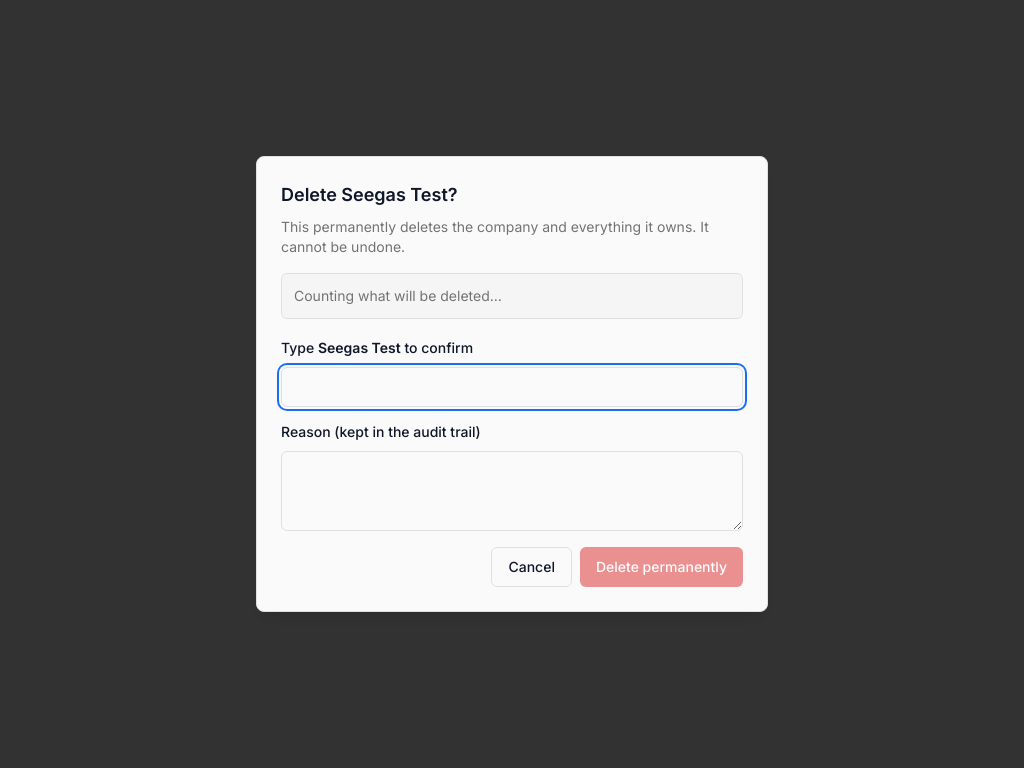
Test: the delete dialog › stays open and shows the error when the server refuses
This screenshot has width=1024, height=768.
Step 1. Type "Seegas Test" into the field labelled "Type Seegas Test to confirm" → (512, 387), box [281, 367, 743, 407]
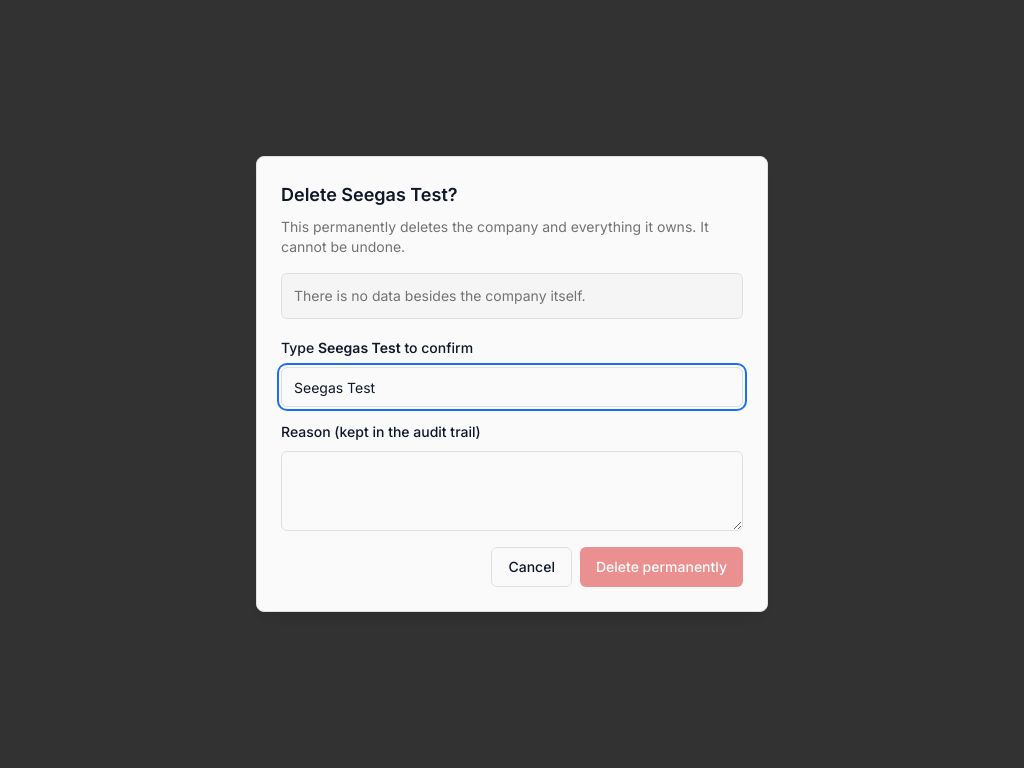
Step 2. Type "Test company, not needed" into the text box labelled "Reason (kept in the audit trail)" → (512, 491), box [281, 451, 743, 531]
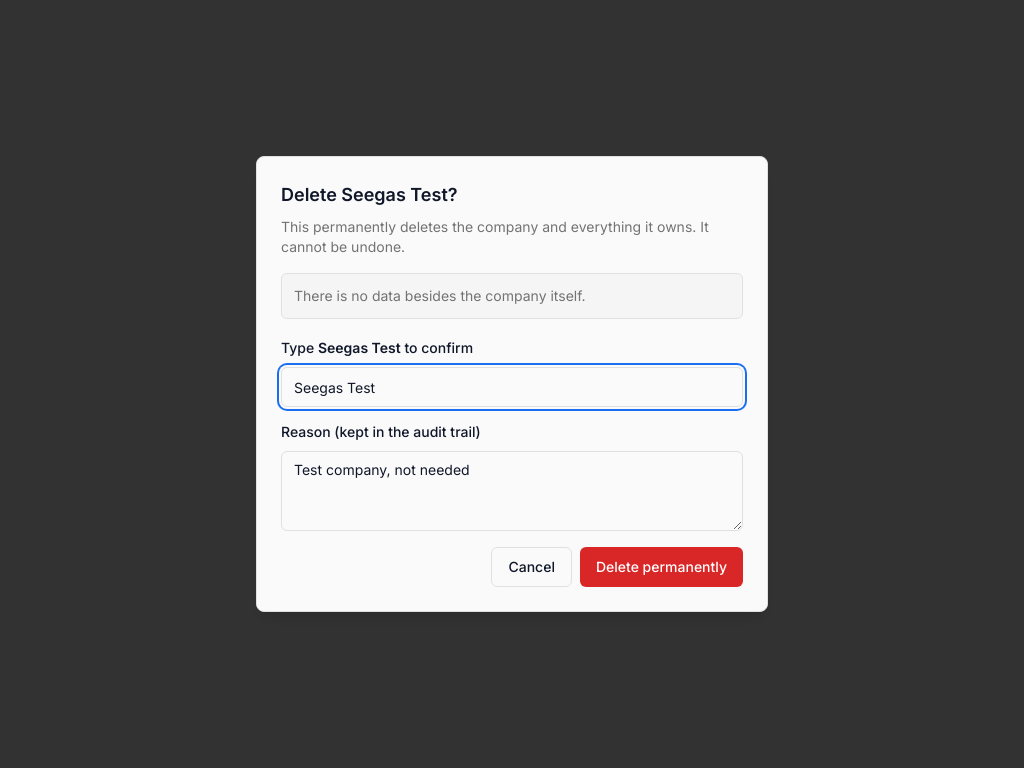
Step 3. Click the button "Delete permanently" → (662, 567), box [580, 547, 743, 587]
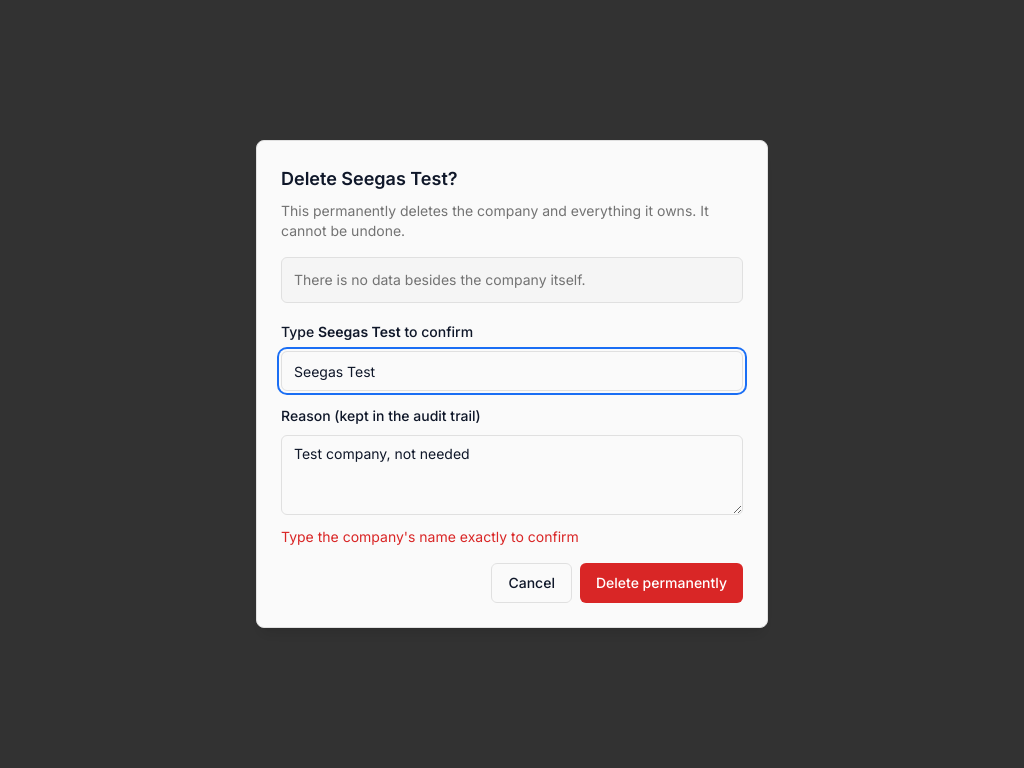
Expected: the message shows "name exactly", [281, 528, 579, 545]
